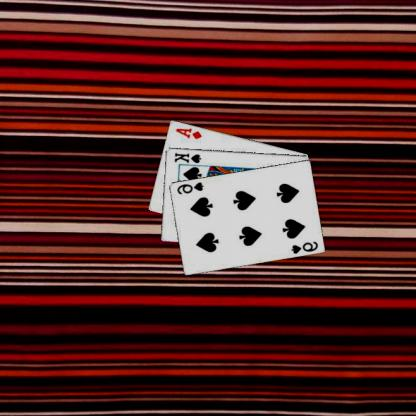6S: (290, 238, 321, 255), (176, 179, 207, 195)
AD: (174, 125, 205, 140)
KS: (173, 150, 204, 164)
